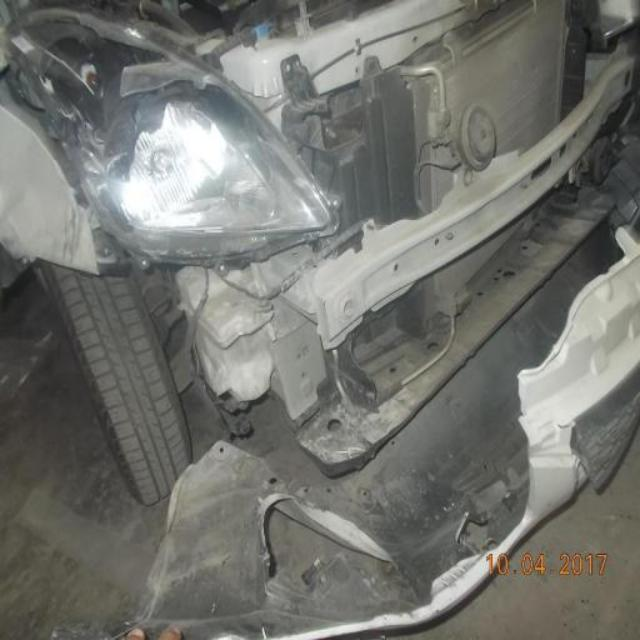no part: (29, 24, 624, 620)
